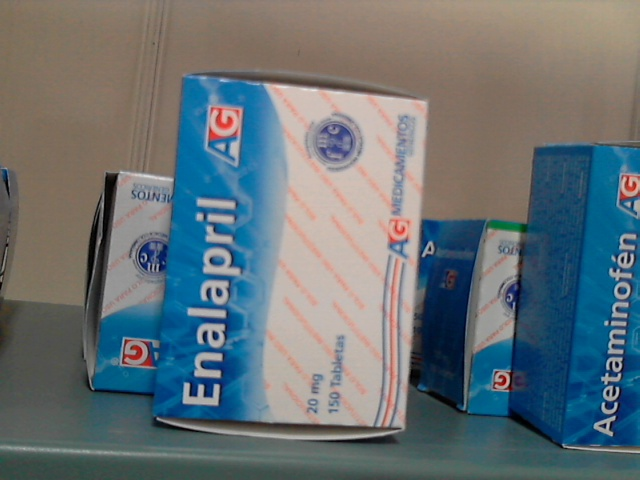AG: (155, 79, 428, 426)
